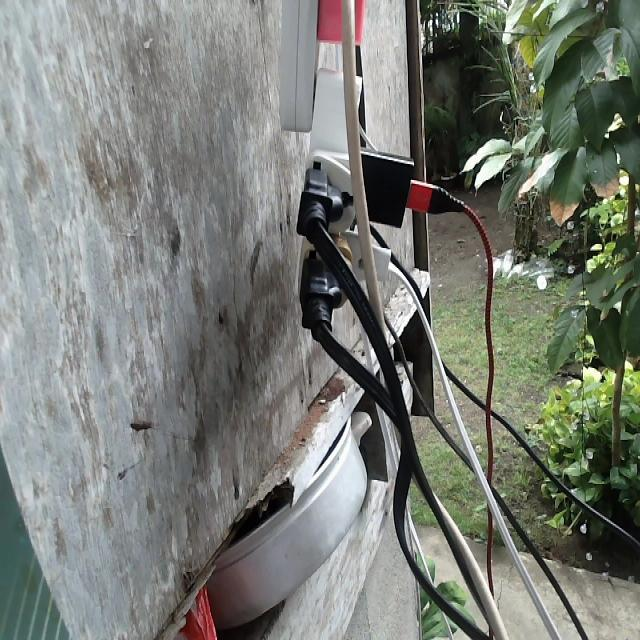-: (278, 2, 469, 346)
